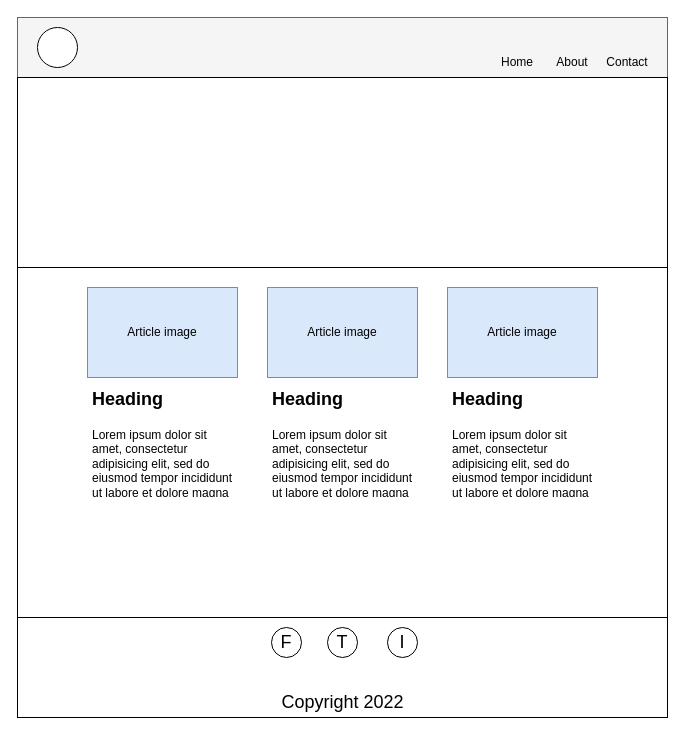
This 685x735 diagram has some shape labels left out. The shapes that lost their labels are listed below. From the top down, each one's box as (x1, y1, x2, y2) in pixels, then its label:
(36, 26, 78, 68): Logo
(16, 76, 668, 268): Welcome message
